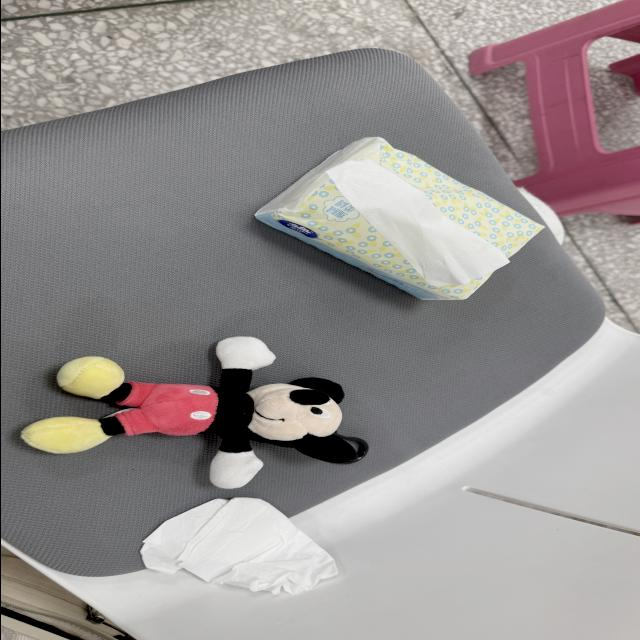mickey: (21, 337, 366, 488)
tissue: (256, 138, 542, 299), (326, 159, 507, 287), (141, 498, 336, 594), (178, 499, 297, 581), (211, 530, 336, 594), (140, 499, 227, 574)
